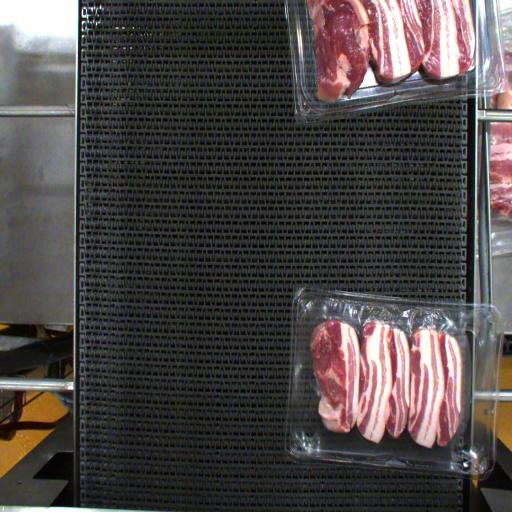unsealed: (296, 298, 492, 473)
